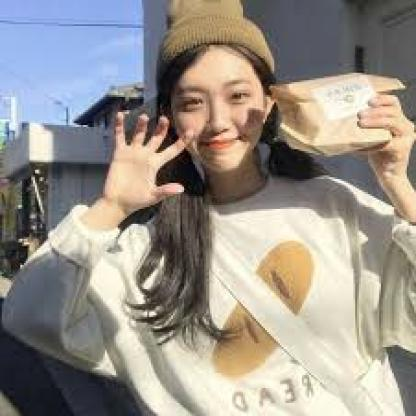person: (157, 30, 278, 188)
